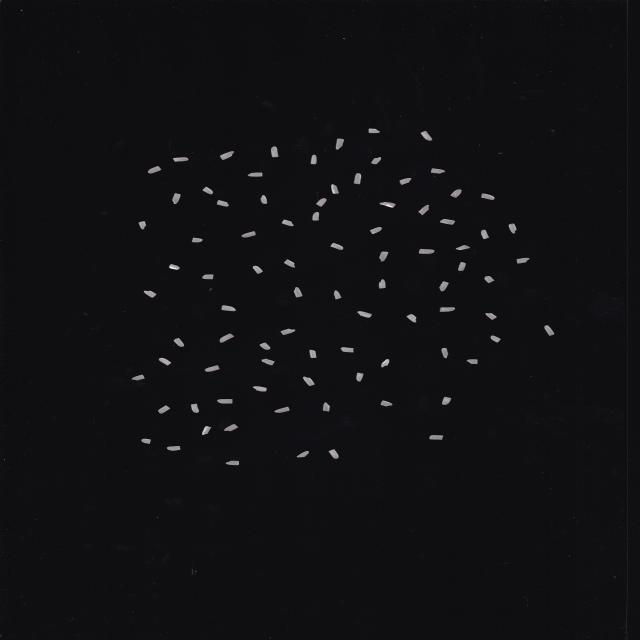Not: (219, 333, 235, 343), (302, 376, 316, 387), (418, 204, 430, 216), (171, 192, 181, 205), (280, 328, 296, 336), (220, 151, 234, 160), (157, 405, 171, 414), (147, 166, 162, 174), (270, 146, 280, 158), (420, 131, 432, 141), (221, 304, 236, 312), (293, 286, 303, 298), (379, 201, 396, 208), (283, 259, 296, 268), (241, 231, 257, 238), (143, 290, 157, 298), (330, 242, 344, 250), (261, 358, 275, 366), (204, 365, 220, 372), (158, 358, 172, 366), (224, 424, 238, 432), (378, 251, 388, 262), (480, 229, 490, 240), (439, 281, 449, 292), (544, 325, 554, 336), (328, 449, 339, 459), (173, 338, 185, 347), (450, 189, 462, 198), (357, 311, 372, 318), (281, 219, 294, 227), (330, 184, 340, 194), (190, 404, 200, 414), (202, 426, 212, 436), (353, 173, 362, 184), (316, 198, 327, 207), (508, 223, 517, 234), (406, 314, 417, 323), (481, 193, 495, 200), (516, 257, 530, 264), (336, 138, 344, 150), (370, 156, 382, 164), (430, 168, 446, 174), (455, 244, 471, 250), (440, 219, 456, 225), (259, 342, 271, 350), (252, 386, 268, 392), (274, 407, 290, 413), (217, 200, 230, 207), (399, 178, 412, 185), (369, 227, 382, 234), (380, 400, 393, 407), (333, 290, 342, 300), (381, 358, 390, 368), (131, 374, 146, 380), (216, 399, 234, 404), (252, 266, 263, 274), (484, 276, 495, 284), (490, 335, 501, 343), (441, 397, 452, 405), (418, 249, 435, 254), (485, 313, 497, 320), (340, 347, 354, 353), (138, 221, 147, 230), (457, 262, 466, 271), (173, 157, 189, 162), (247, 172, 263, 177), (310, 154, 318, 164), (440, 307, 456, 312), (441, 348, 449, 358), (322, 402, 330, 412), (356, 372, 364, 382), (428, 435, 444, 440), (368, 128, 381, 134), (296, 451, 309, 457), (202, 187, 213, 194), (166, 446, 181, 451), (191, 237, 203, 243), (168, 264, 180, 270), (202, 274, 214, 280), (466, 359, 478, 365), (379, 279, 386, 289), (308, 350, 316, 358), (312, 212, 319, 221), (260, 195, 267, 204), (141, 438, 151, 444), (226, 461, 240, 465)
